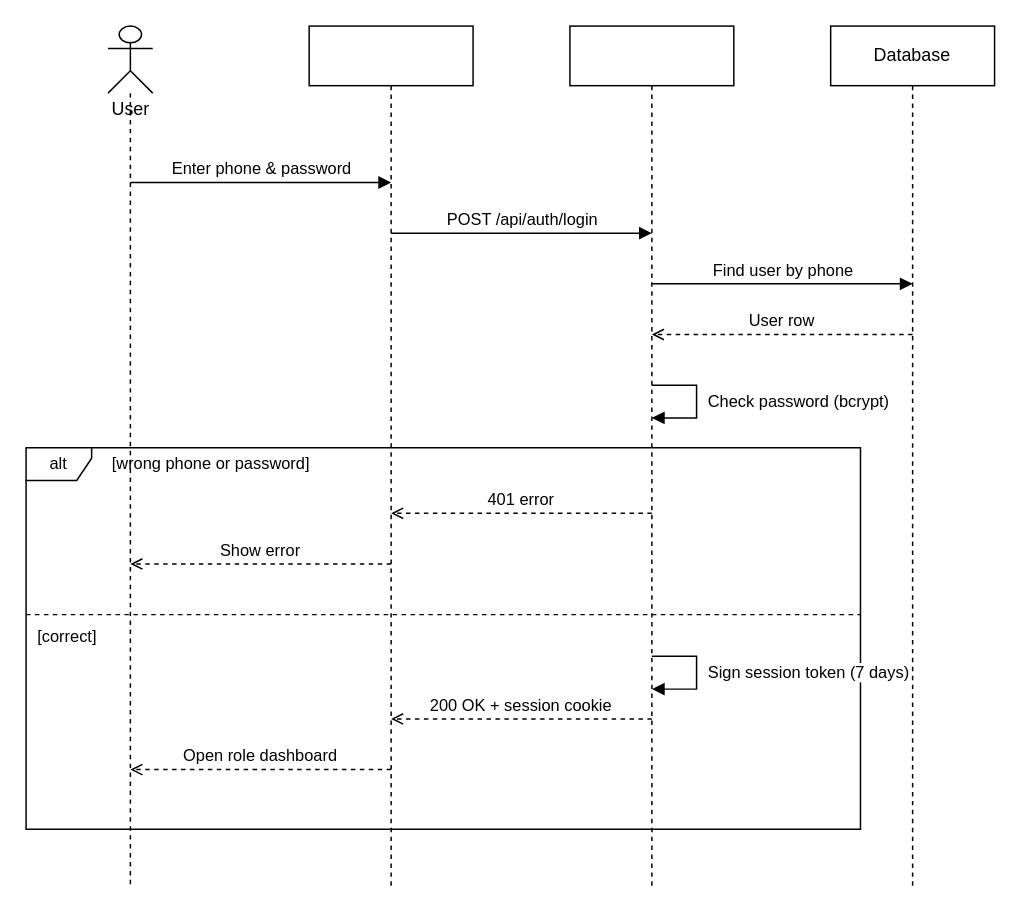
The diagram is 1021 pixels wide and 915 high, and some of its shapes have lost their labels. The box of each missing label's shape, as (x1, y1, x2, y2) in pixels:
Server: (568, 25, 734, 889)
Web App: (308, 25, 473, 889)
